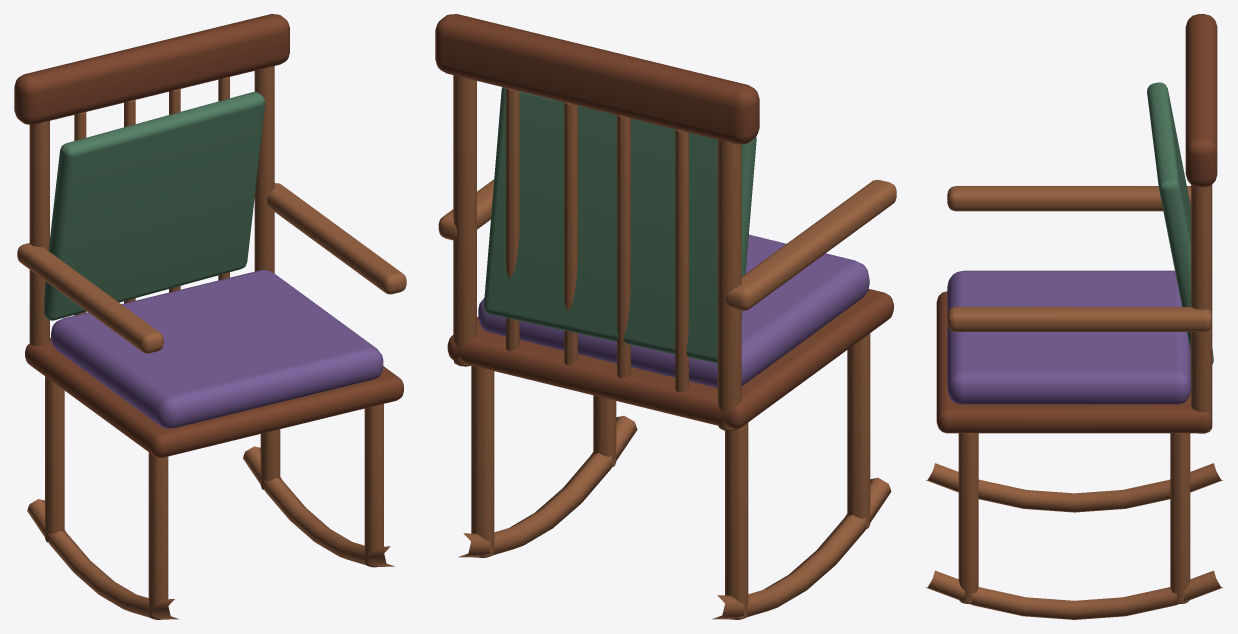
Rendered from rocking-chair.glb.
The picture shows the model from 3 angles, left to right: view 1: azimuth 30°, elevation 25°; view 2: azimuth 150°, elevation 25°; view 3: azimuth 270°, elevation 25°; orthographic projection. The views are drawn at different scales.
Parts seen in each view (by area): view 1: rocking-chair; view 2: rocking-chair; view 3: rocking-chair.
Part boxes in pixels (bbox=[...]): rocking-chair: bbox=[14, 14, 406, 619]; rocking-chair: bbox=[435, 14, 896, 619]; rocking-chair: bbox=[926, 14, 1222, 619].
Bounding box in the file's own units: 0.6 × 1.02 × 0.5629.
